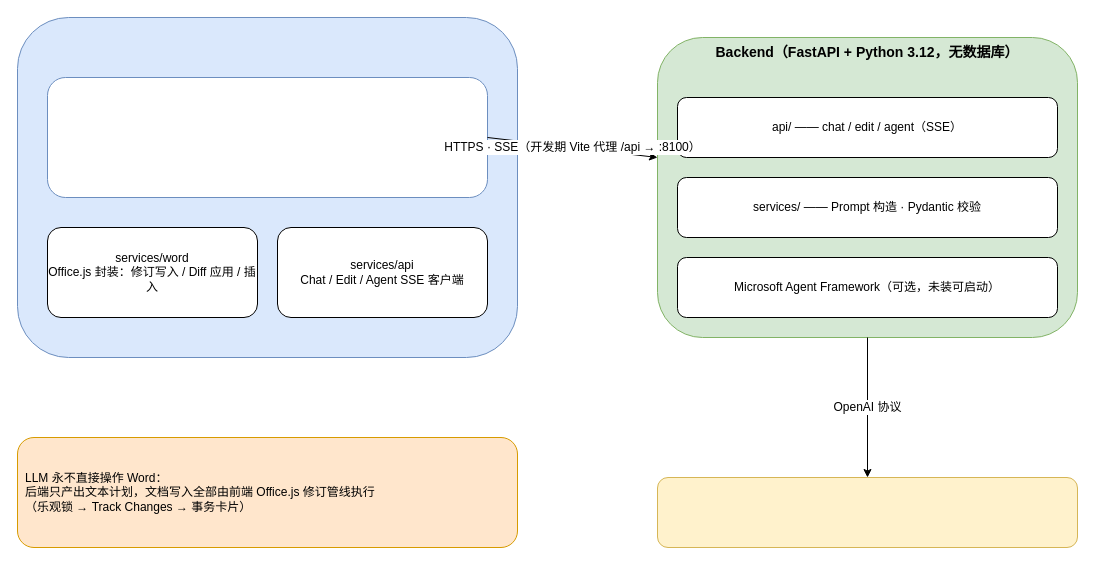
Some shapes in this 1095 by 565 pixel diagram are drawn without their labels. Here are the shapes that lost their labels. From the top down, the box of each, then its label:
(46, 76, 488, 198): 任务窗格（iframe） Vue 3 + Pinia + TypeScript
(16, 16, 518, 358): Word（桌面 / 365）
(656, 476, 1078, 548): LLM（任意 OpenAI 兼容接口）
